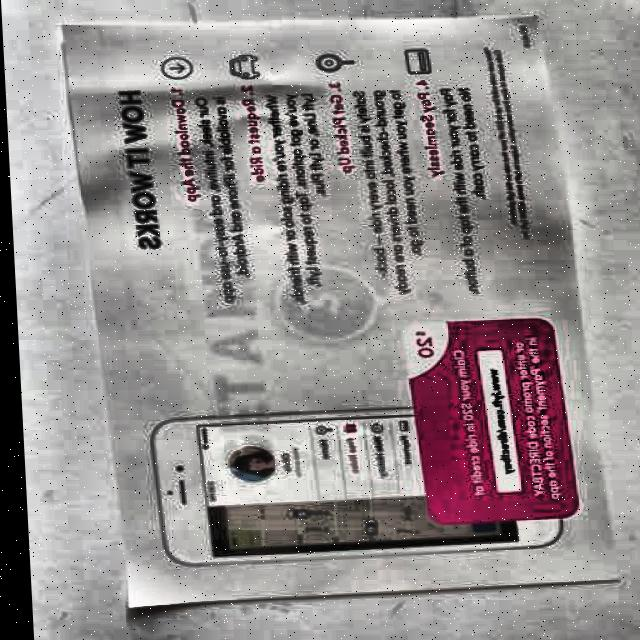paper: (55, 15, 630, 610)
